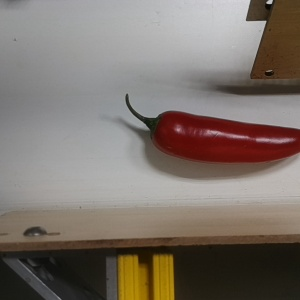Cut Point: (144, 109, 174, 148)
